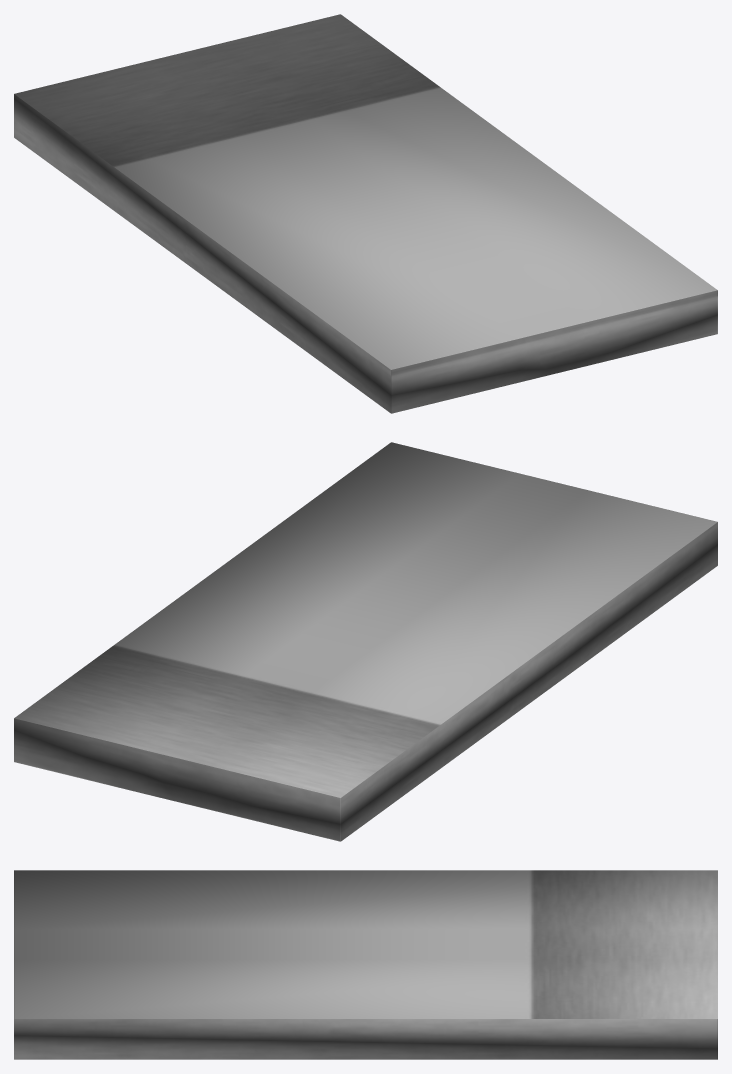
Rendered from ceiling_light_3.obj.
3 views of the same model, one above another, from view 1: azimuth 30°, elevation 25°; view 2: azimuth 150°, elevation 25°; view 3: azimuth 270°, elevation 25° (orthographic). The views are drawn at different scales.
Parts seen in each view (by area): view 1: ceiling_light_3; view 2: ceiling_light_3; view 3: ceiling_light_3.
Part boxes in pixels (box(x1,y1,x2,y2)): ceiling_light_3: box(14, 14, 717, 413); ceiling_light_3: box(14, 442, 717, 841); ceiling_light_3: box(14, 870, 717, 1059).
Size of the model in its own units: 4 by 0.5117 by 8.
Materials: 1 (1 with a texture image).
